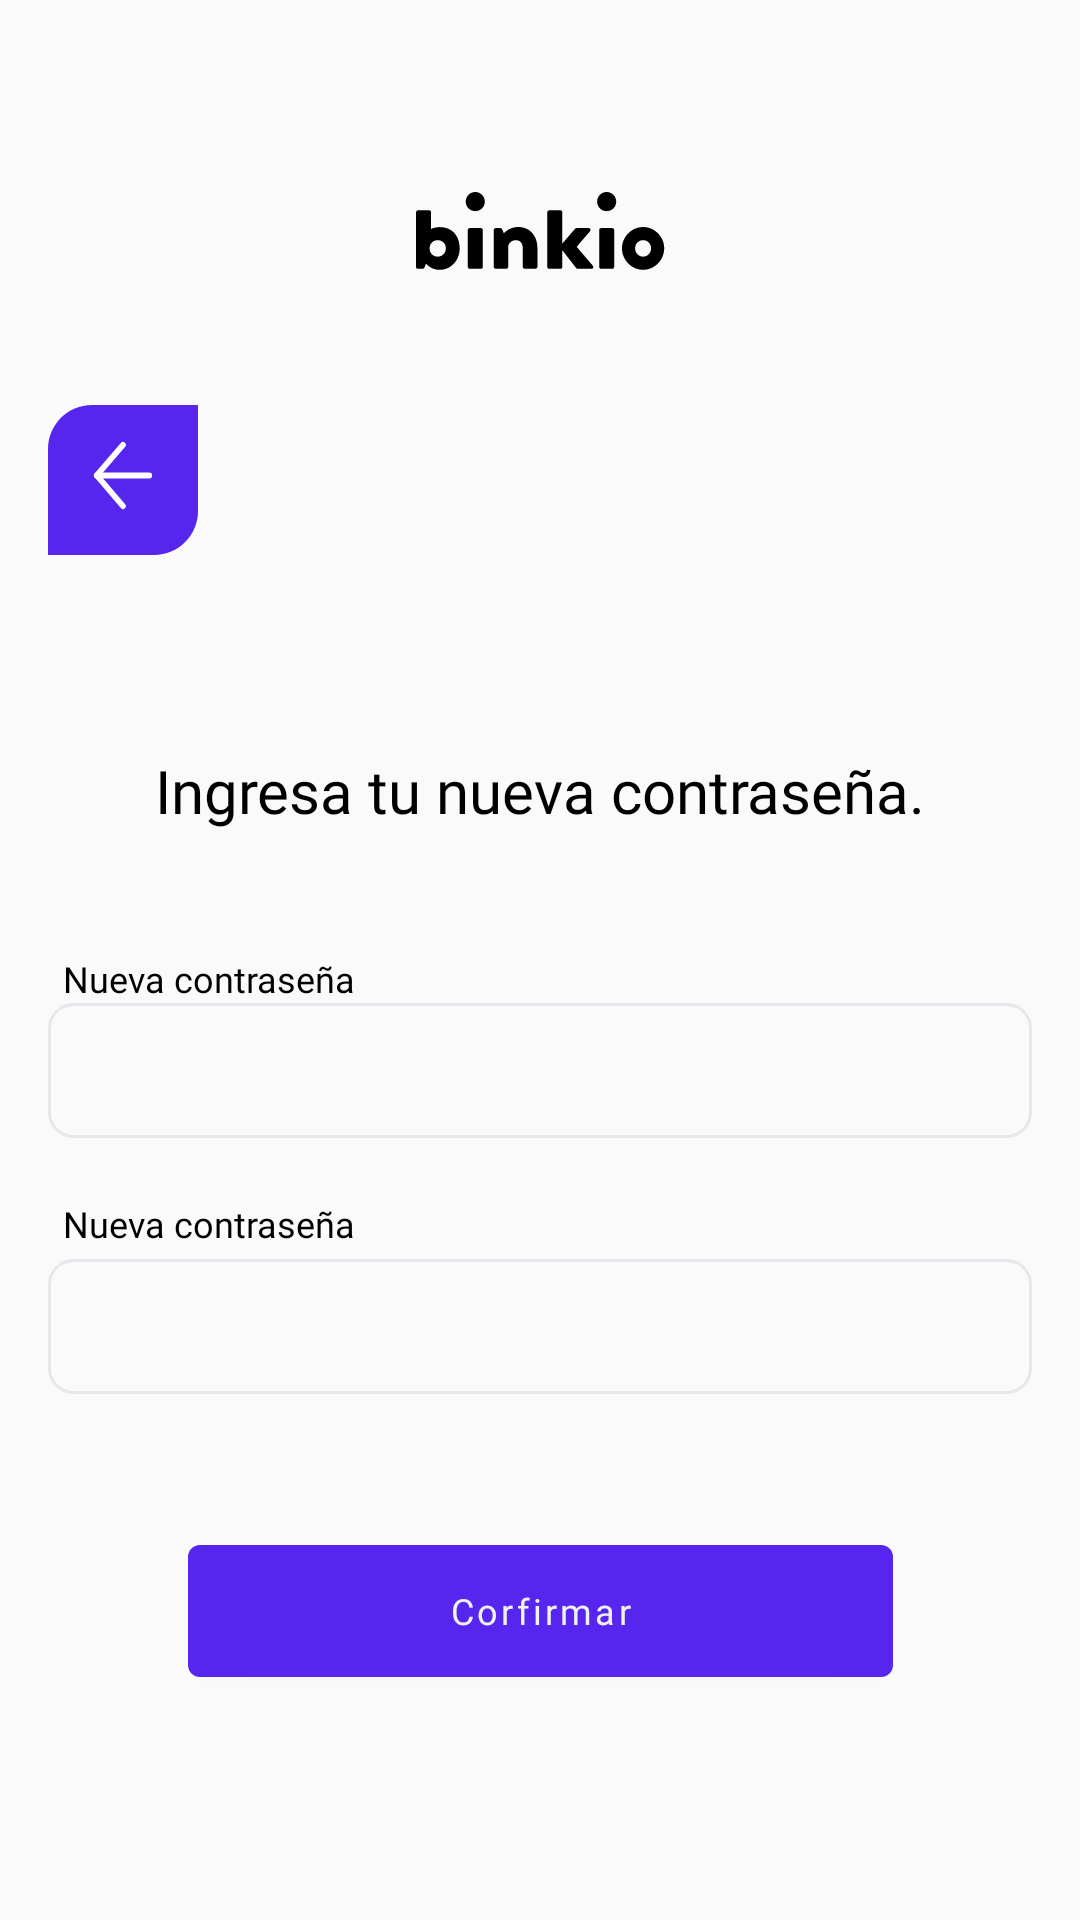

Icon bounding boxes for this 1080 x 1920 phone screenshot, format (left=x1, top=y1, right=x2, bottom=y2):
back: (left=48, top=405, right=198, bottom=555)
